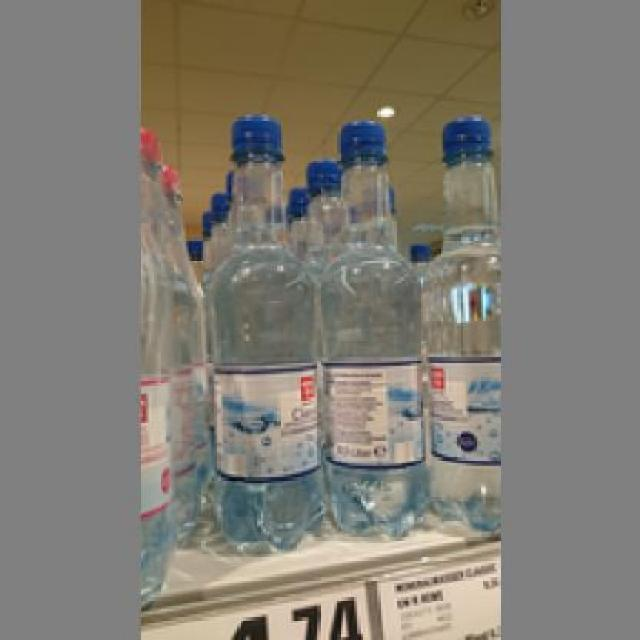Water: (206, 108, 332, 554), (314, 114, 426, 537), (420, 111, 494, 540)
